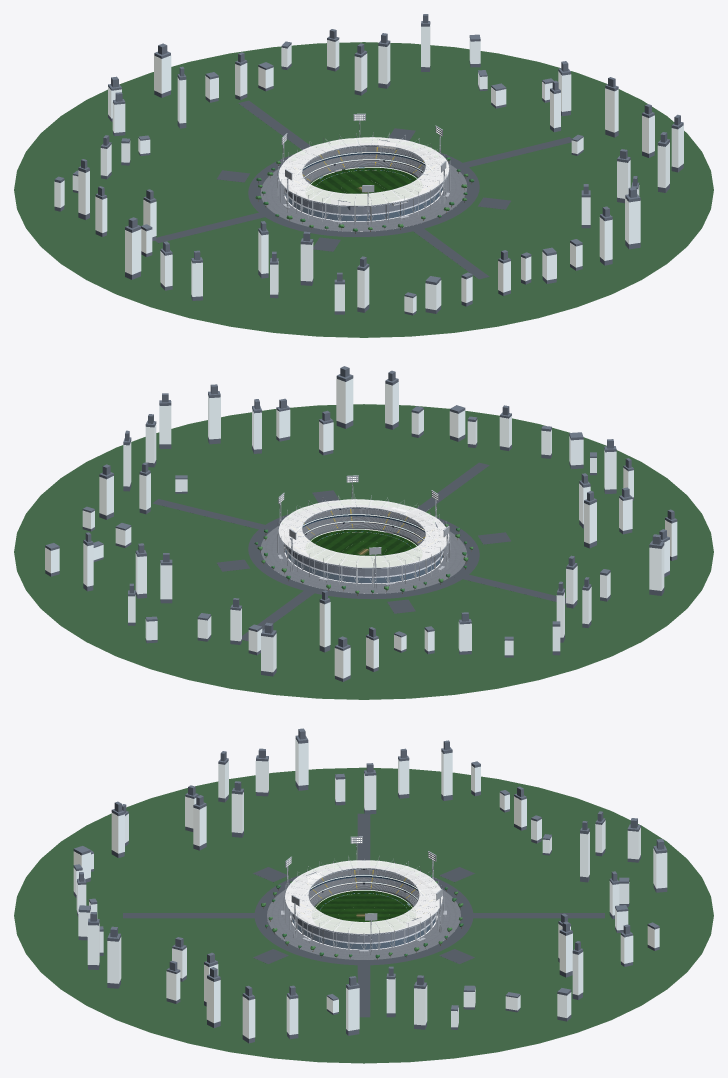
Rendered from stadium_venue.glb.
3 renders of one model, top to bottom at view 1: azimuth 30°, elevation 25°; view 2: azimuth 150°, elevation 25°; view 3: azimuth 270°, elevation 25°, orthographic.
Parts seen in each view (by area): view 1: Exterior_Terrain_Ground, City_Skyline_Windows, Exterior_City_Skyline, Exterior_Roads_And_Parking, Cantilevered_PTFE_Roof_Canopy, Exterior_Granite_Plaza, Outfield_Turf_Field, Seating_Bowl_Stepped_Tiers, Roof_Steel_SpaceFrame_Trusses, Stadium_Substructure_And_Concourse, Exterior_Atrium_Glazing, Floodlight_Steel_Towers; view 2: Exterior_Terrain_Ground, City_Skyline_Windows, Exterior_City_Skyline, Exterior_Roads_And_Parking, Cantilevered_PTFE_Roof_Canopy, Exterior_Granite_Plaza, Outfield_Turf_Field, Seating_Bowl_Stepped_Tiers, Stadium_Substructure_And_Concourse, Roof_Steel_SpaceFrame_Trusses, Exterior_Atrium_Glazing, Floodlight_Steel_Towers; view 3: Exterior_Terrain_Ground, City_Skyline_Windows, Exterior_City_Skyline, Exterior_Roads_And_Parking, Cantilevered_PTFE_Roof_Canopy, Exterior_Granite_Plaza, Outfield_Turf_Field, Seating_Bowl_Stepped_Tiers, Roof_Steel_SpaceFrame_Trusses, Stadium_Substructure_And_Concourse, Exterior_Atrium_Glazing, Floodlight_Steel_Towers.
Part boxes in pixels (x1,y1,x2,y2): Exterior_Terrain_Ground: [14, 42, 713, 337]; City_Skyline_Windows: [54, 25, 683, 313]; Exterior_City_Skyline: [54, 14, 683, 315]; Exterior_Roads_And_Parking: [155, 100, 571, 279]; Cantilevered_PTFE_Roof_Canopy: [278, 137, 449, 205]; Exterior_Granite_Plaza: [260, 161, 467, 231]; Outfield_Turf_Field: [306, 167, 421, 204]; Seating_Bowl_Stepped_Tiers: [289, 147, 440, 209]; Roof_Steel_SpaceFrame_Trusses: [277, 132, 450, 224]; Stadium_Substructure_And_Concourse: [285, 144, 442, 214]; Exterior_Atrium_Glazing: [285, 152, 442, 221]; Floodlight_Steel_Towers: [281, 113, 446, 226]; Exterior_Terrain_Ground: [14, 404, 713, 699]; City_Skyline_Windows: [45, 378, 677, 678]; Exterior_City_Skyline: [45, 366, 677, 681]; Exterior_Roads_And_Parking: [152, 462, 566, 641]; Cantilevered_PTFE_Roof_Canopy: [278, 499, 449, 567]; Exterior_Granite_Plaza: [261, 523, 467, 593]; Outfield_Turf_Field: [306, 529, 421, 566]; Seating_Bowl_Stepped_Tiers: [287, 509, 440, 571]; Stadium_Substructure_And_Concourse: [285, 506, 442, 576]; Roof_Steel_SpaceFrame_Trusses: [277, 494, 450, 586]; Exterior_Atrium_Glazing: [285, 514, 442, 583]; Floodlight_Steel_Towers: [278, 475, 449, 588]; Exterior_Terrain_Ground: [14, 767, 713, 1063]; City_Skyline_Windows: [73, 739, 667, 1038]; Exterior_City_Skyline: [73, 728, 667, 1043]; Exterior_Roads_And_Parking: [123, 813, 604, 1017]; Cantilevered_PTFE_Roof_Canopy: [285, 860, 442, 934]; Exterior_Granite_Plaza: [267, 882, 460, 959]; Outfield_Turf_Field: [312, 890, 415, 932]; Seating_Bowl_Stepped_Tiers: [296, 870, 434, 937]; Roof_Steel_SpaceFrame_Trusses: [283, 856, 444, 952]; Stadium_Substructure_And_Concourse: [292, 867, 435, 942]; Exterior_Atrium_Glazing: [292, 875, 435, 949]; Floodlight_Steel_Towers: [285, 836, 442, 954].
Size of the model in its own units: 1010 by 93.65 by 1010.
Materials: 34 (7 with a texture image).
